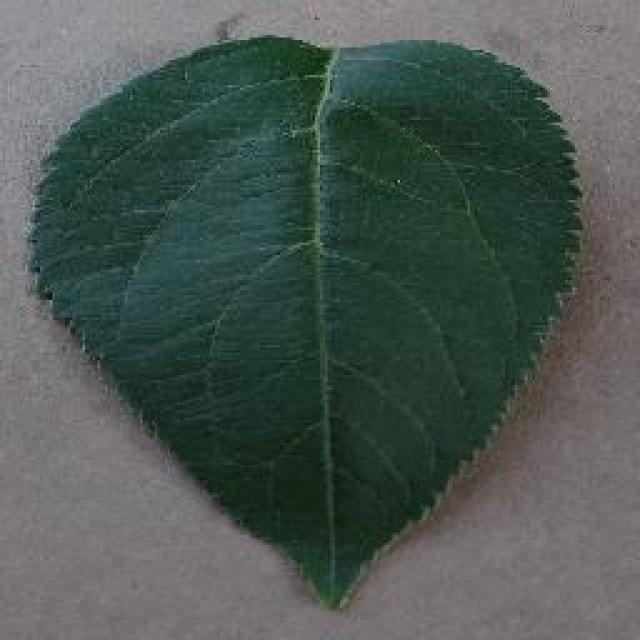apple healthy: (23, 28, 585, 610)
